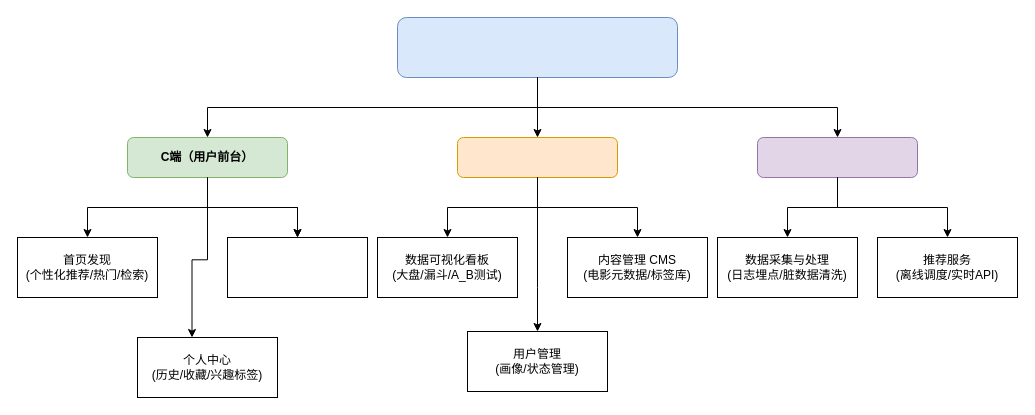
Some shapes in this 1035 by 415 pixel diagram are drawn without their labels. Here are the shapes that lost their labels. From the top down, the box of each, then its label:
(396, 16, 678, 78): 智能电影数据分析与推荐平台
(456, 136, 618, 178): B端（管理后台）
(756, 136, 918, 178): 数据与算法底座
(226, 236, 368, 298): 电影详情 (信息/评分/相似推荐)
